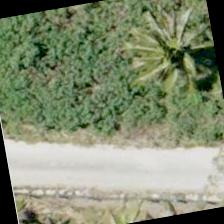Kelapa_Sawit: (132, 1, 222, 103)
